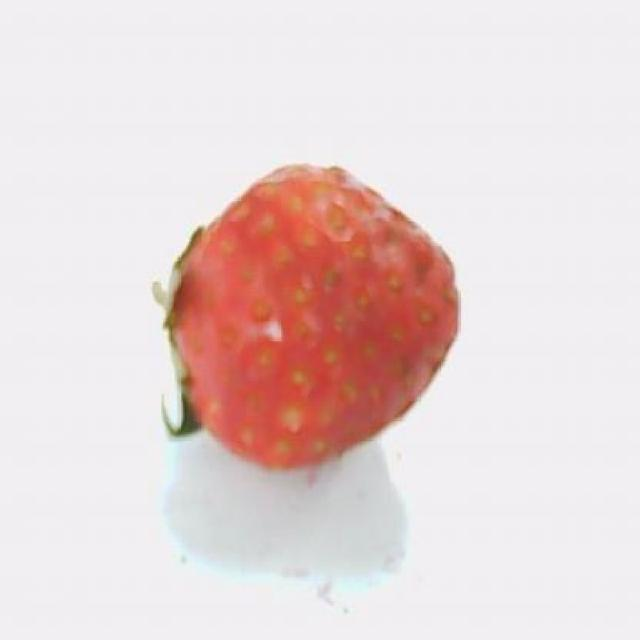strawberry: (152, 165, 459, 468)
